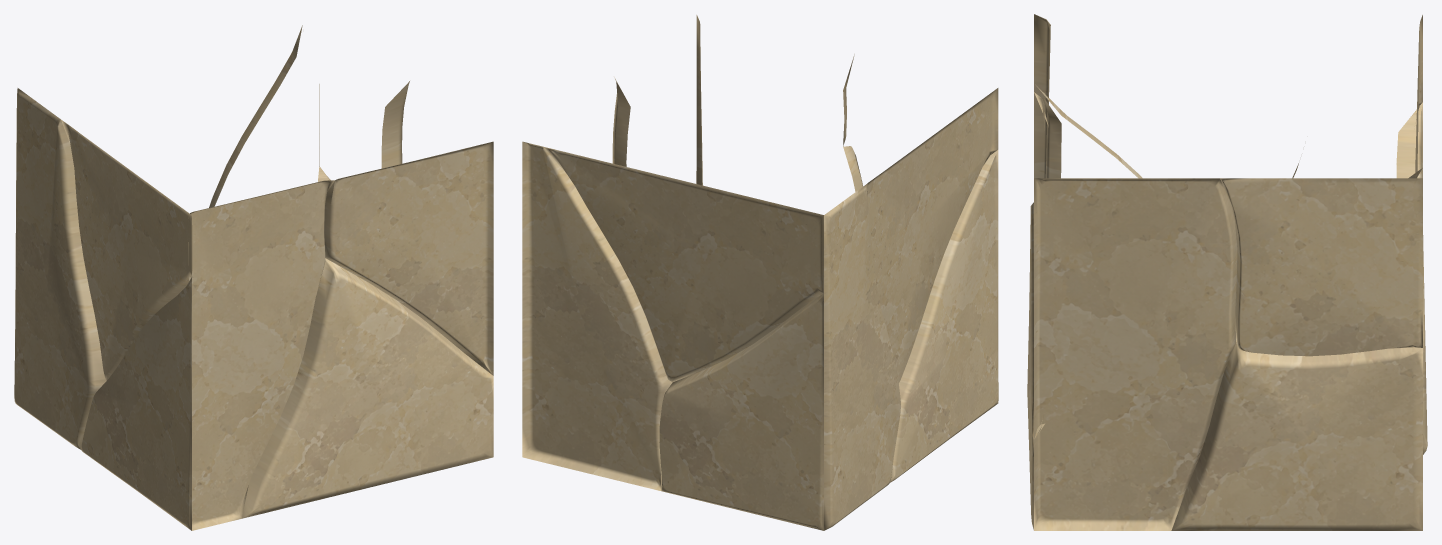
Rendered from GroundRock09.glb.
3 views of the same model, side by side, from view 1: azimuth 30°, elevation 25°; view 2: azimuth 150°, elevation 25°; view 3: azimuth 270°, elevation 25° (orthographic). The views are drawn at different scales.
Visible parts, largest first — view 1: ground_rock_09; view 2: ground_rock_09; view 3: ground_rock_09.
Part boxes in pixels (left/top/right/bottom): ground_rock_09: left=14, top=25, right=493, bottom=530; ground_rock_09: left=522, top=15, right=998, bottom=530; ground_rock_09: left=1027, top=14, right=1427, bottom=530.
Size of the model in its own units: 1.04 by 1 by 1.03.
13 materials, 13 textured.
